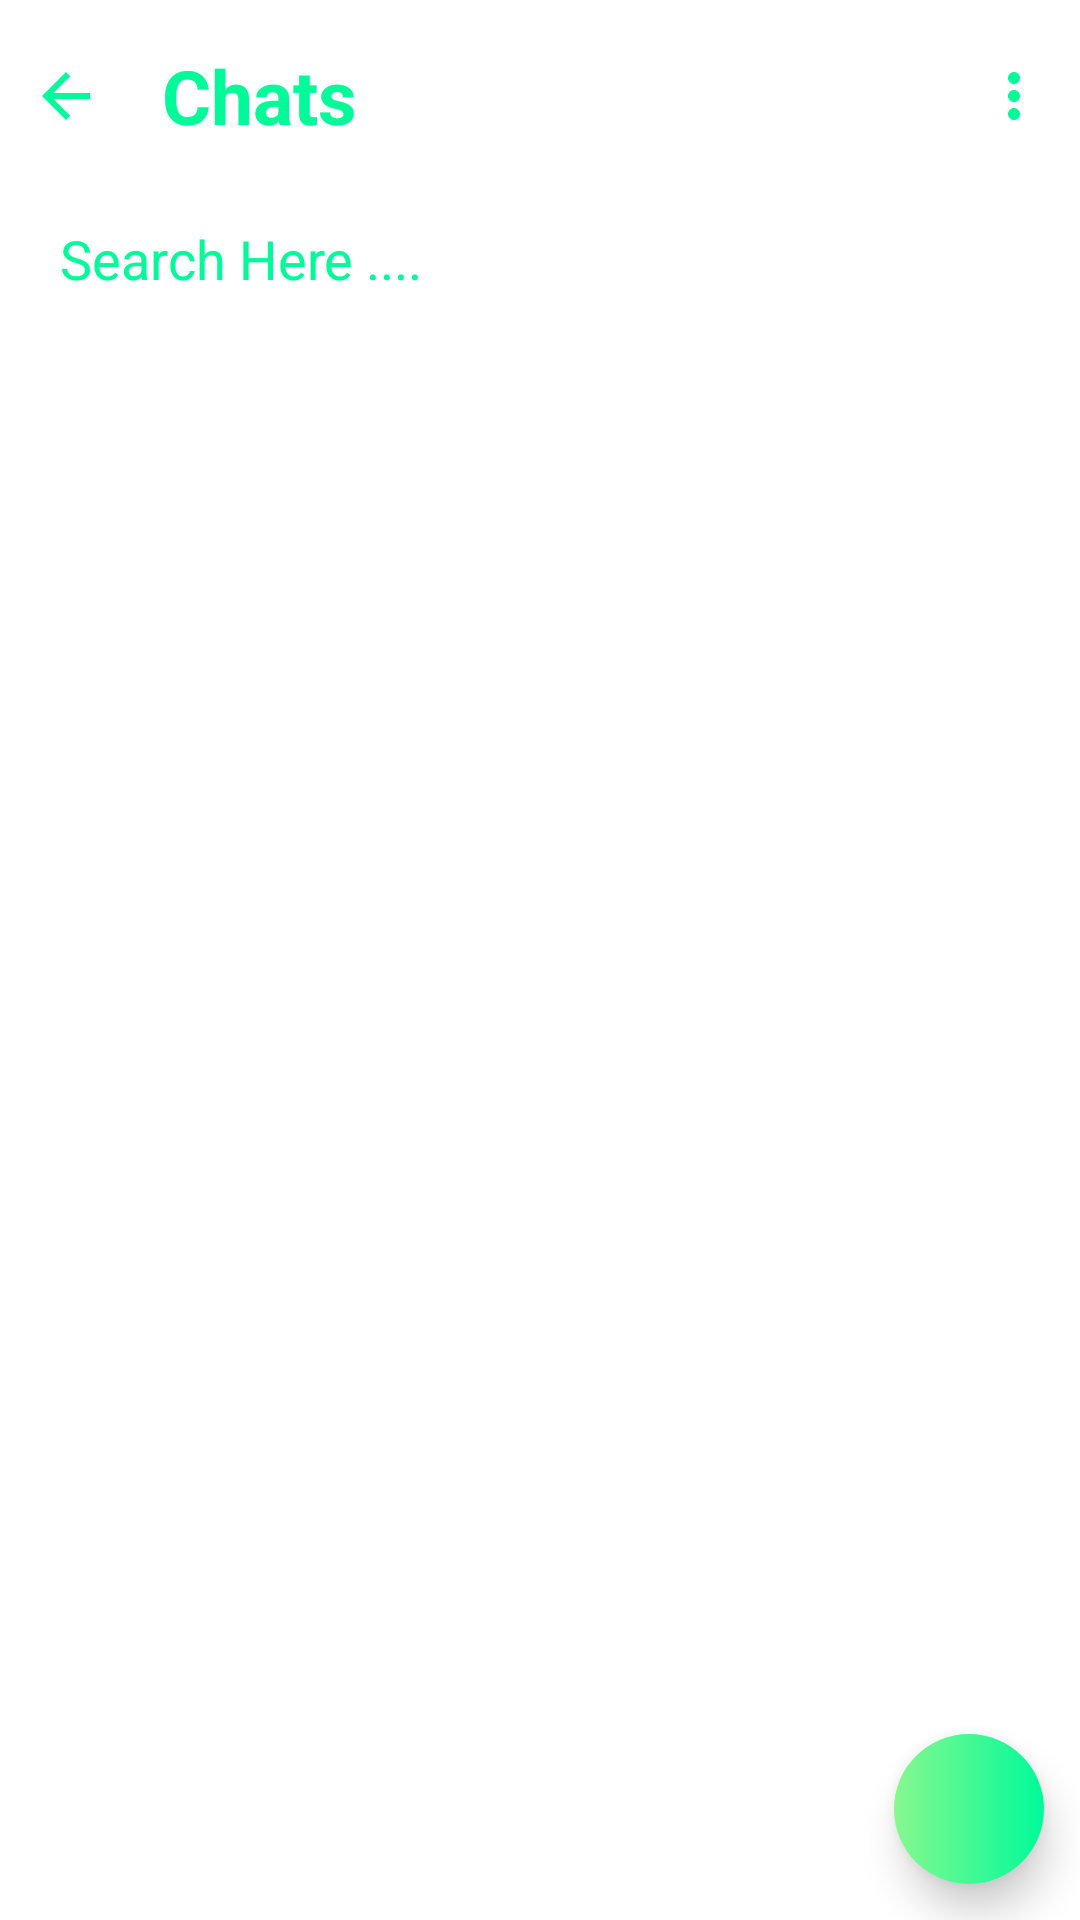

Named icons in this screenshot (1080×1920) and their bounding boxes, bbox=(x1, y1, x2, y2):
back: bbox=(42, 72, 90, 120)
menu: bbox=(1008, 72, 1020, 120)
